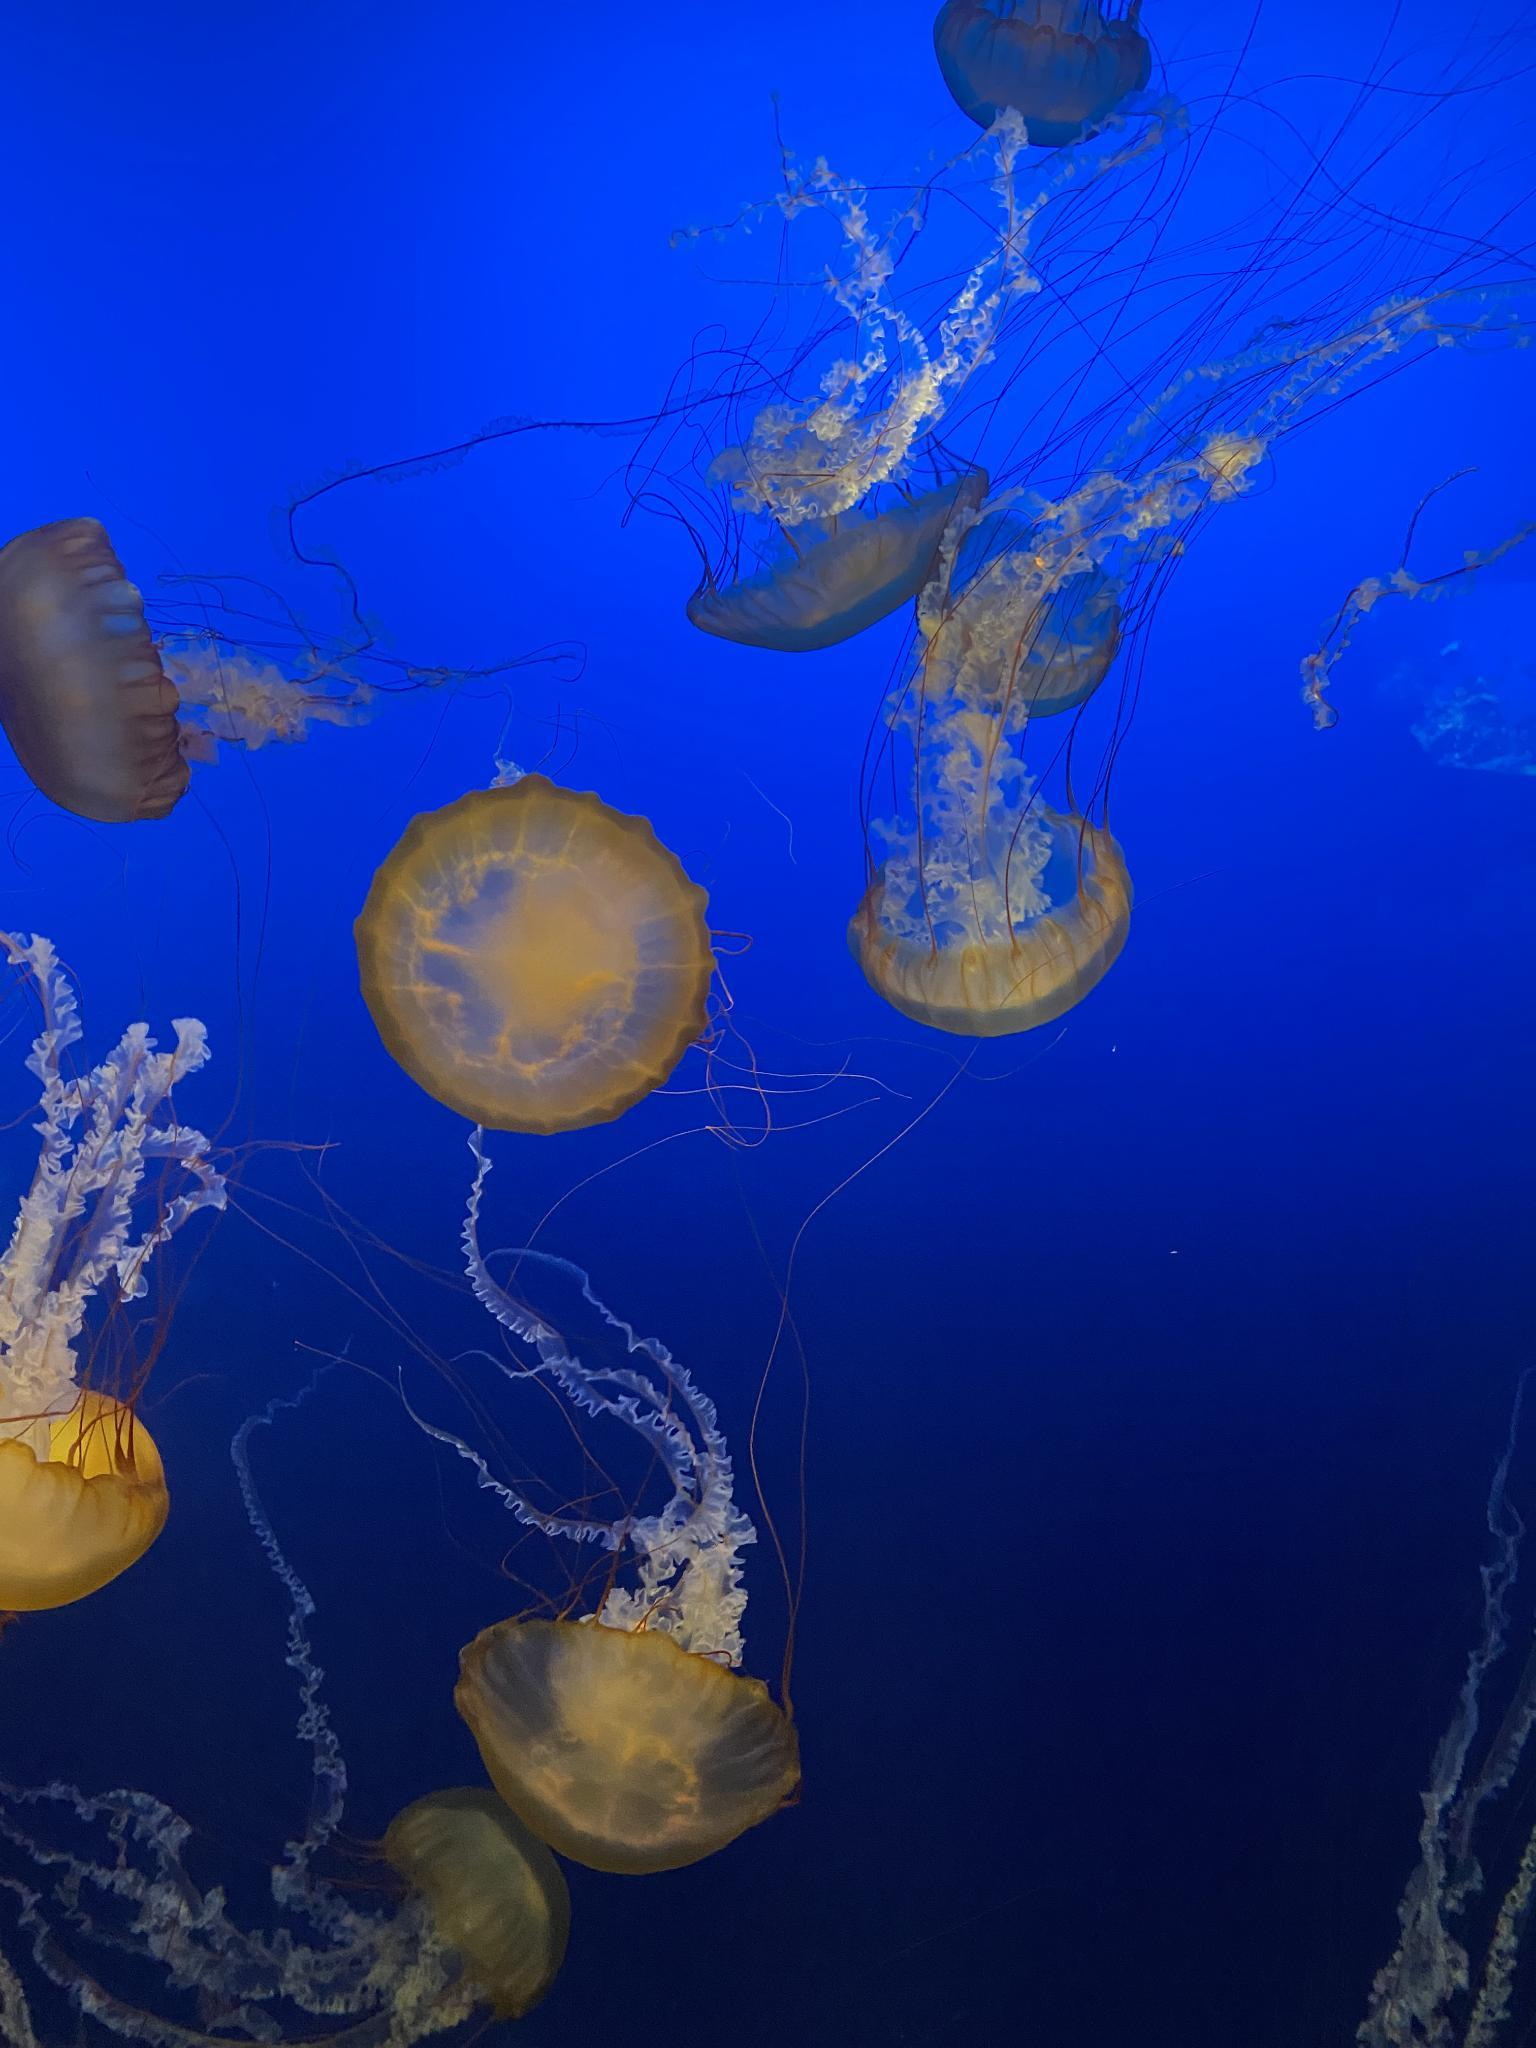jellyfish: (353, 769, 712, 1135), (450, 1609, 807, 1877), (855, 801, 1133, 1040), (0, 510, 189, 829), (684, 463, 995, 651), (381, 1777, 573, 2046), (2, 1390, 169, 1622), (925, 537, 1125, 718), (937, 2, 1157, 152)
